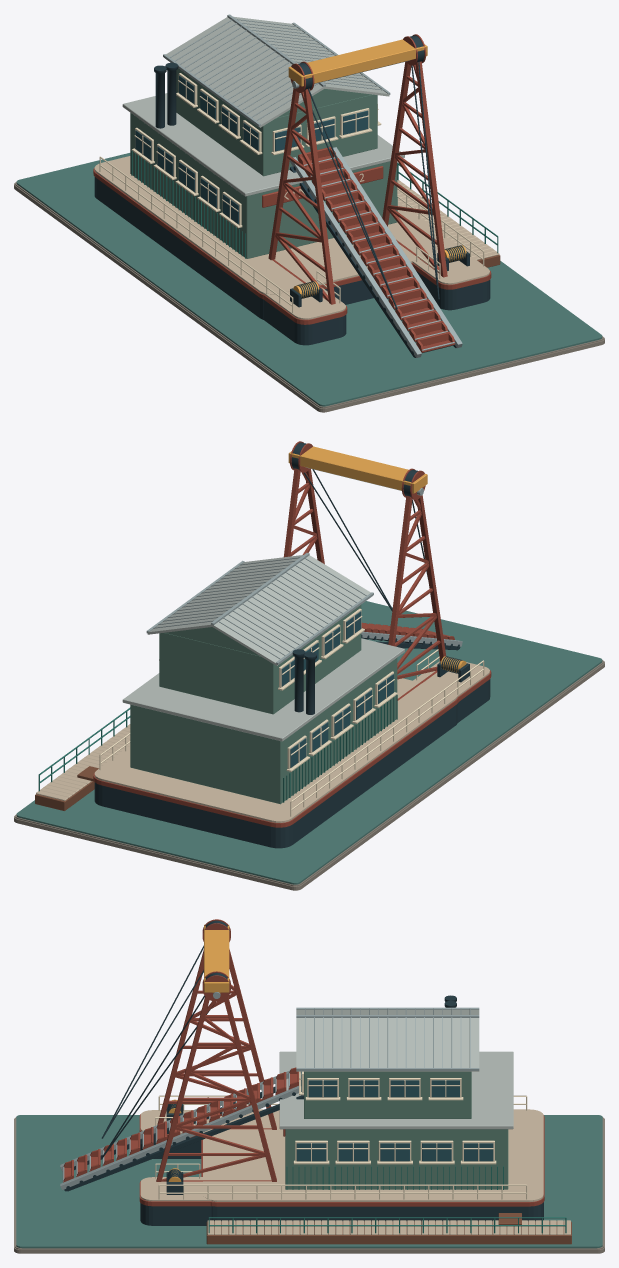
3 renders of one model, top to bottom at view 1: azimuth 30°, elevation 25°; view 2: azimuth 150°, elevation 25°; view 3: azimuth 270°, elevation 25°, orthographic. The views are drawn at different scales.
Visible parts, largest first — view 1: Screening Plant, Museum Berth, Dredge Pontoon, Headframe, Bucket Ladder; view 2: Screening Plant, Museum Berth, Dredge Pontoon, Headframe, Bucket Ladder; view 3: Screening Plant, Museum Berth, Dredge Pontoon, Headframe, Bucket Ladder.
Boxes of the visible parts, box(x1,y1,x2,y2) form: Screening Plant: box(122, 14, 404, 258); Museum Berth: box(14, 153, 604, 412); Dredge Pontoon: box(93, 156, 491, 345); Headframe: box(268, 34, 469, 309); Bucket Ladder: box(290, 147, 462, 357); Screening Plant: box(122, 552, 404, 804); Museum Berth: box(14, 601, 604, 890); Dredge Pontoon: box(93, 649, 491, 848); Headframe: box(283, 441, 469, 700); Bucket Ladder: box(361, 622, 462, 650); Screening Plant: box(279, 995, 513, 1189); Museum Berth: box(14, 1115, 604, 1253); Dredge Pontoon: box(139, 1095, 544, 1225); Headframe: box(101, 919, 276, 1194); Bucket Ladder: box(60, 1067, 303, 1191).
Size of the model in its own units: 18.6 by 15.55 by 34.8.
